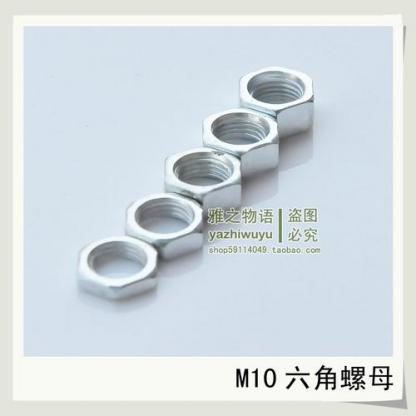FOD: (200, 109, 283, 178), (237, 64, 315, 137), (125, 194, 206, 264), (72, 234, 158, 298), (162, 145, 242, 212)
